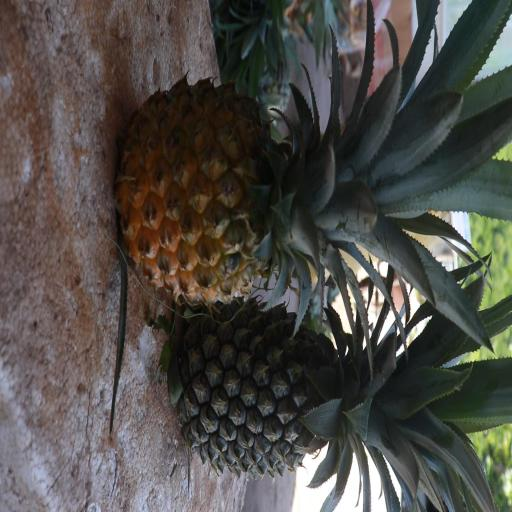Pineapple - v8 v1: (124, 84, 458, 296)
